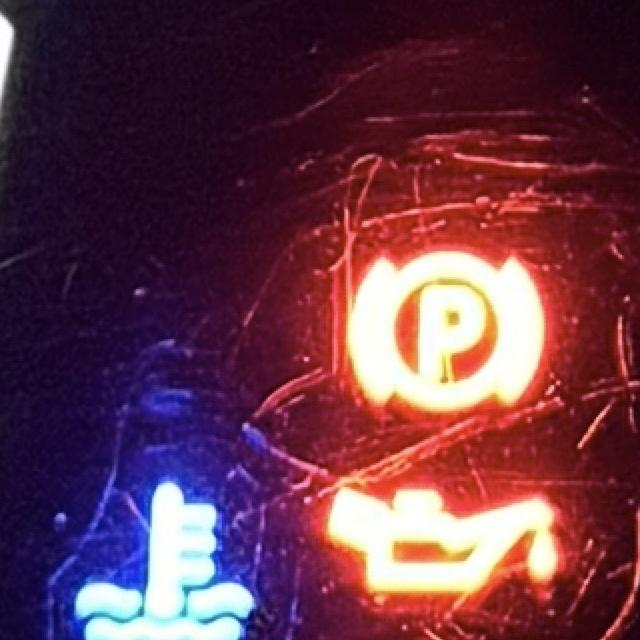High Engine Temperature: (68, 477, 265, 640)
Low Oil Pressure Issue: (328, 487, 563, 600)
Parking Break On: (345, 247, 549, 417)
